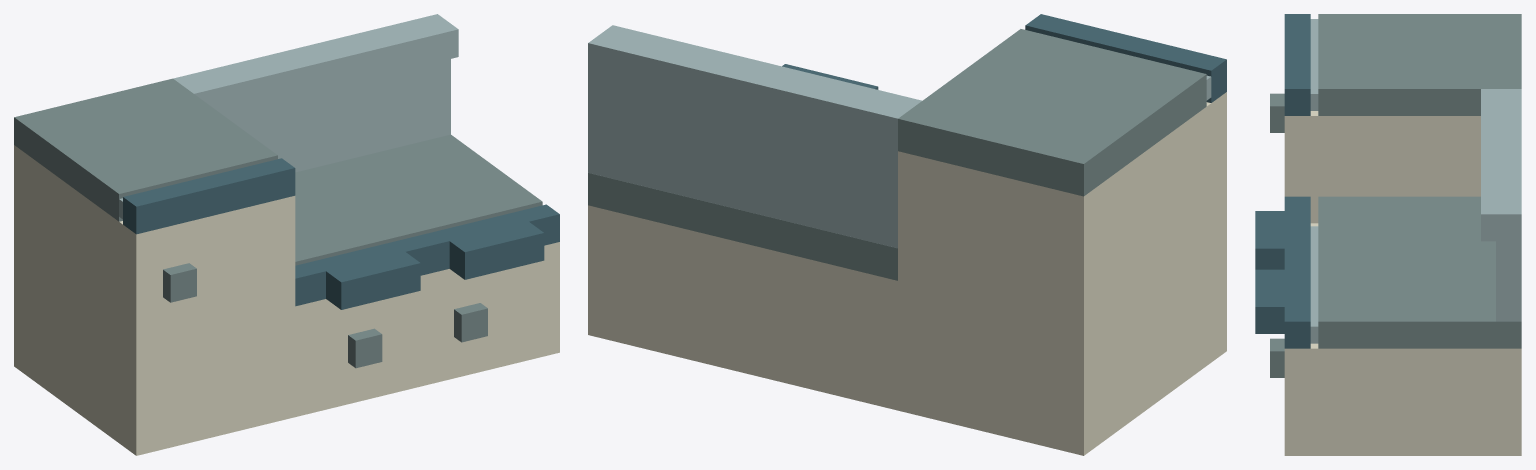
File: FloorBlock-Sink.002.fbx
3 views of the same model, side by side, from view 1: azimuth 30°, elevation 25°; view 2: azimuth 150°, elevation 25°; view 3: azimuth 270°, elevation 25° (orthographic). The views are drawn at different scales.
Parts seen in each view (by area): view 1: FloorBlock-Sink.002; view 2: FloorBlock-Sink.002; view 3: FloorBlock-Sink.002.
Boxes of the visible parts, x1,y1,x2,y2 form: FloorBlock-Sink.002: (14,14,559,455); FloorBlock-Sink.002: (588,14,1226,455); FloorBlock-Sink.002: (1255,14,1521,455).
Bounding box in the file's own units: 1600 × 900 × 900.
